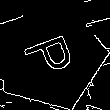P_E: (19, 30, 81, 82)
